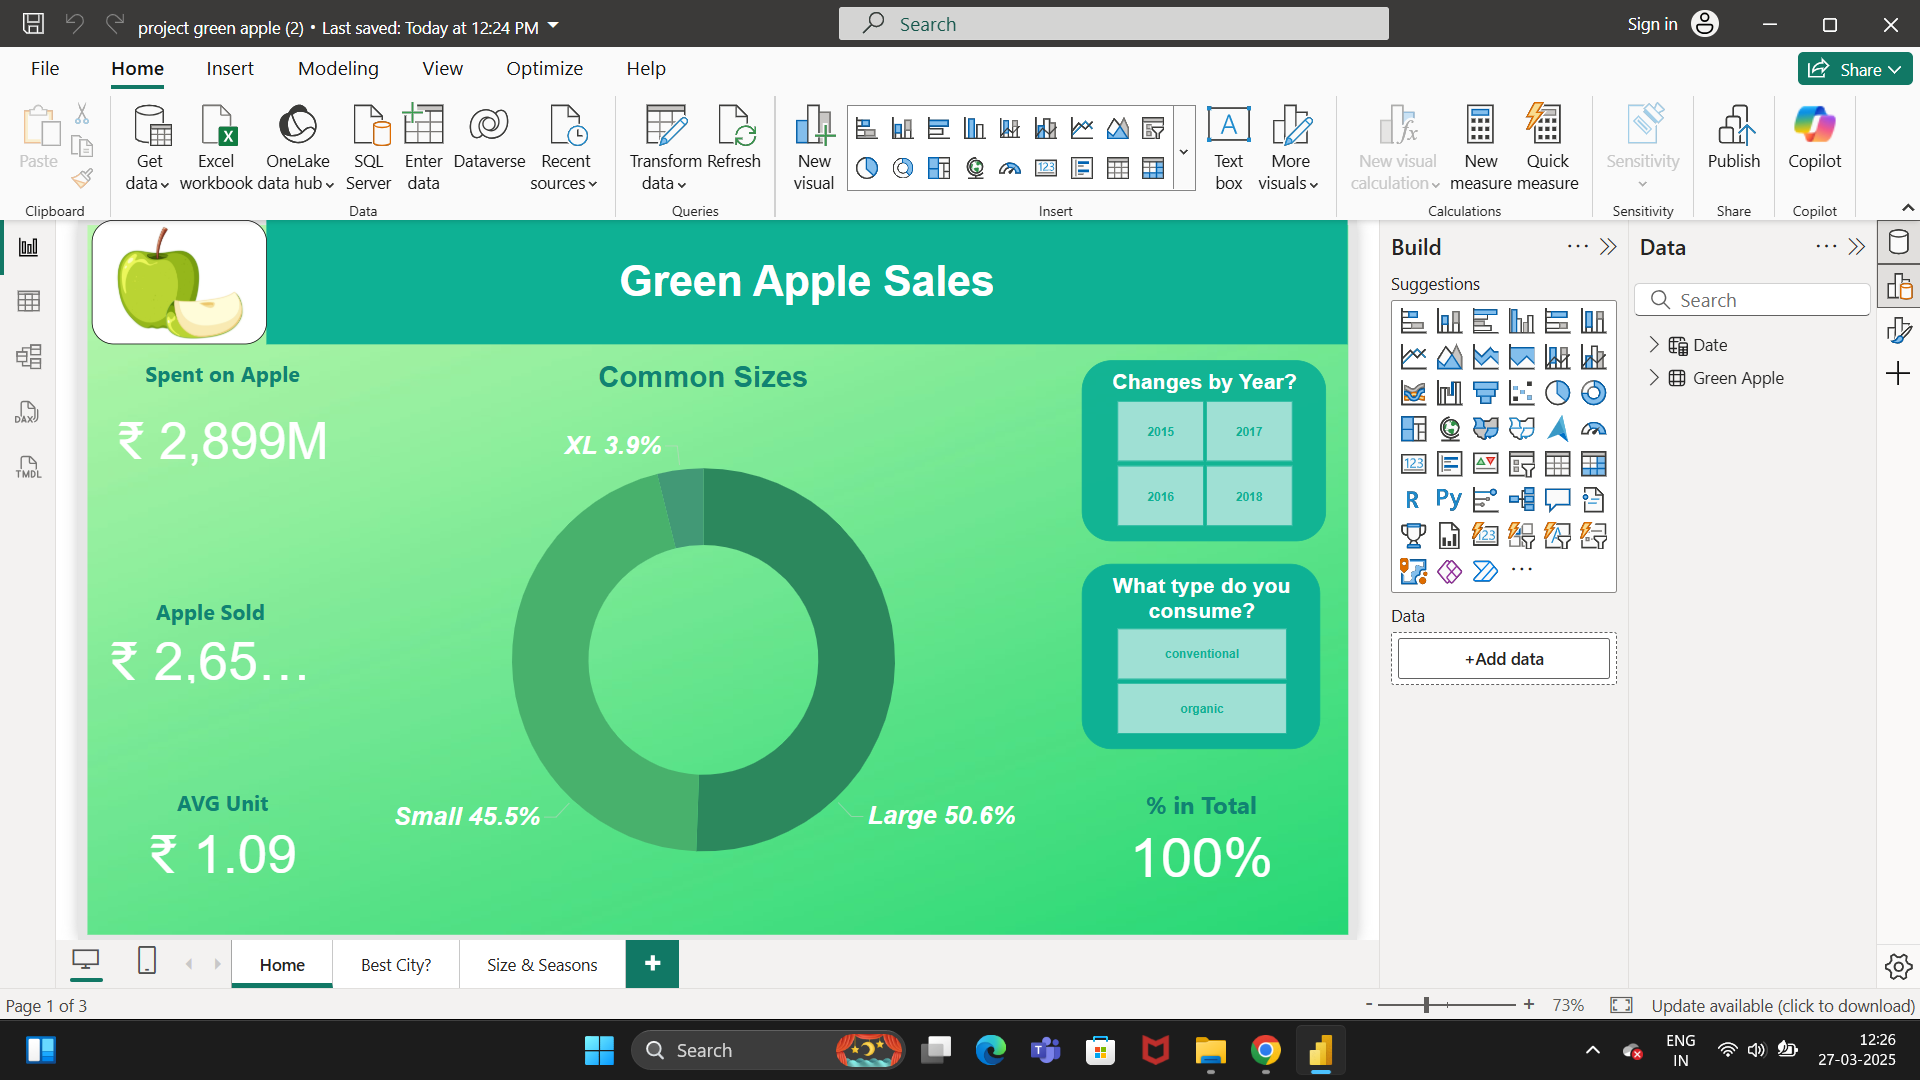

This screenshot's page, from the dashboard's own definition file:
{"tool":"powerbi","page":{"name":"Home","canvas":[1280,720],"ordinal":0},"visuals":[{"type":"image","box":[0,0,1280,720],"z":0},{"type":"textbox","box":[188.7,0,1081.1,124.5],"z":1000},{"type":"card","title":"Spent on Apple","fields":{"Values":["avocado.Total_Price"]},"box":[22.9,139.2,242.4,129.4],"z":2000},{"type":"card","title":"AVG Unit ","fields":{"Values":["avocado.AVG_price_per_avocado"]},"box":[13.1,568.4,262.1,96.6],"z":3000},{"type":"slicer","title":"What type do you consume?","fields":{"Values":["avocado.type"]},"box":[1004.3,344.3,238.6,185.7],"z":4000},{"type":"card","title":" Apple Sold","fields":{"Values":["avocado.Q.sold"]},"box":[22.9,376.7,217.9,91.7],"z":5000},{"type":"card","title":"% in Total","fields":{"Values":["avocado.type_%_in_total"]},"box":[995.7,568.6,255.7,97.1],"z":6000},{"type":"slicer","title":"Changes by Year?","fields":{"Values":["Date.Calendar.Year"]},"box":[1004.3,140,244.3,181.4],"z":7000},{"type":"donutChart","title":" Common Sizes","fields":{"Y":["avocado.large_%_in_total","avocado.small_%_in_total","avocado.Extra_large_%_in_total"]},"box":[245.7,140,758.6,565.7],"z":8000},{"type":"image","box":[13.2,0,175.5,124.5],"z":9000}]}

Visuals, with their boxes on the page's 1280x720 design canvas (x1, y1, x2, y2). These are canvas units, not pixel positions in the 1920x1080 screenshot, which may show the page scaled, cropped or inside an application window:
image: x1=0, y1=0, x2=1280, y2=720
textbox: x1=189, y1=0, x2=1270, y2=124
"Spent on Apple" card: x1=23, y1=139, x2=265, y2=269
"AVG Unit " card: x1=13, y1=568, x2=275, y2=665
"What type do you consume?" slicer: x1=1004, y1=344, x2=1243, y2=530
" Apple Sold" card: x1=23, y1=377, x2=241, y2=468
"% in Total" card: x1=996, y1=569, x2=1251, y2=666
"Changes by Year?" slicer: x1=1004, y1=140, x2=1249, y2=321
" Common Sizes" donutChart: x1=246, y1=140, x2=1004, y2=706
image: x1=13, y1=0, x2=189, y2=124
